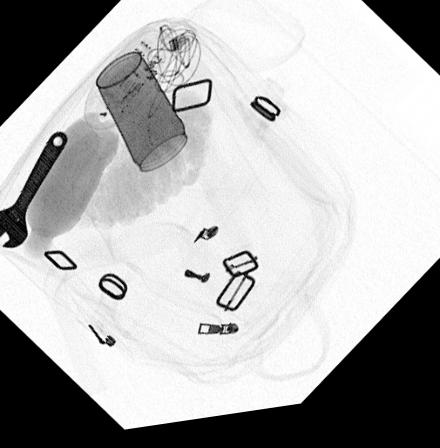Wrench: (0, 132, 70, 249)
